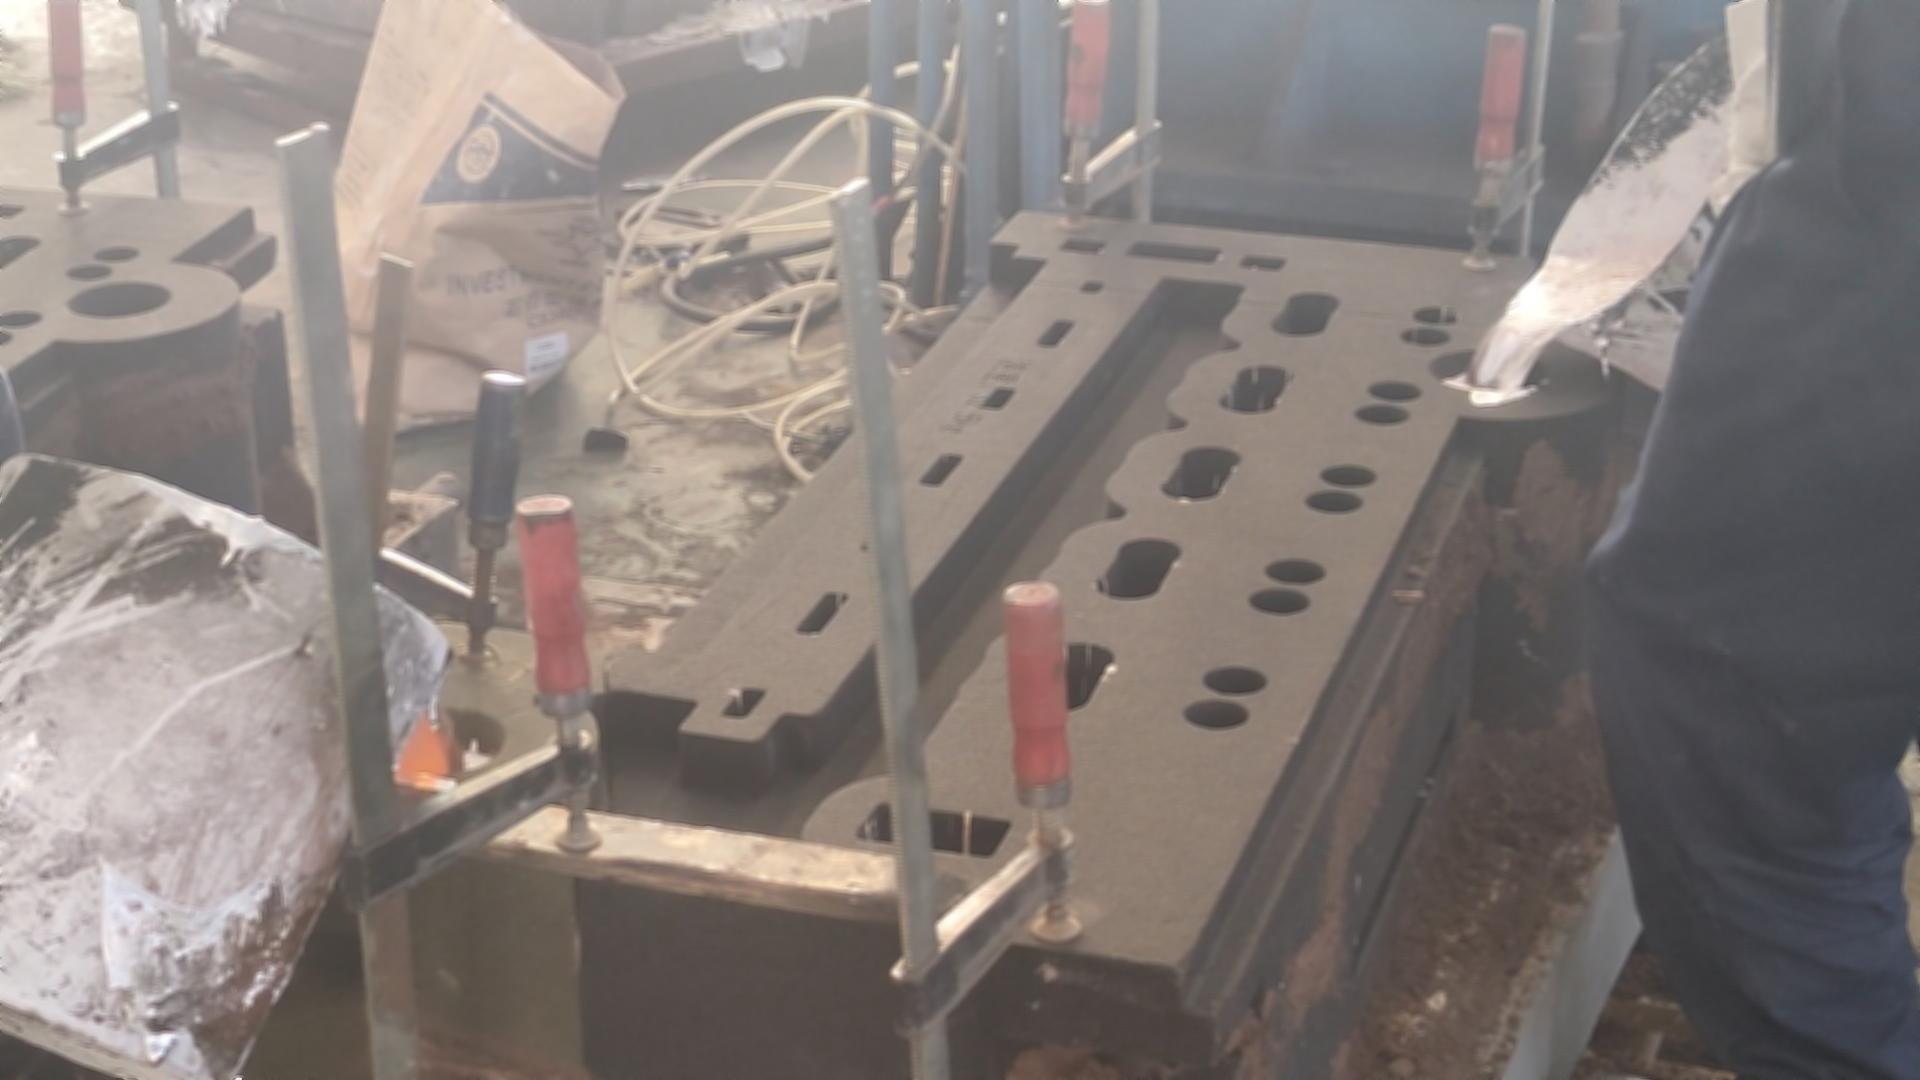pouring hole: (373, 703, 506, 778), (1427, 348, 1547, 392), (69, 280, 173, 316)
